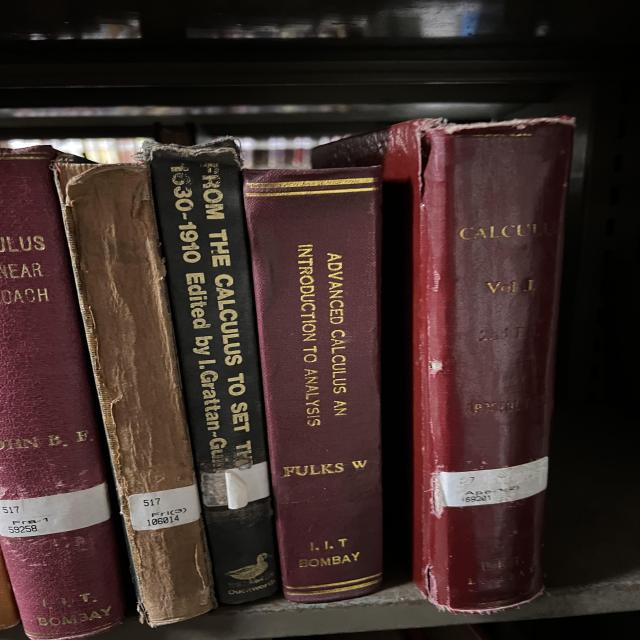Book: (312, 116, 575, 614), (53, 161, 217, 626), (145, 141, 278, 604), (0, 146, 123, 640), (243, 166, 382, 602)
Label: (0, 482, 110, 538), (438, 456, 548, 506), (128, 485, 200, 531), (223, 461, 270, 509)
